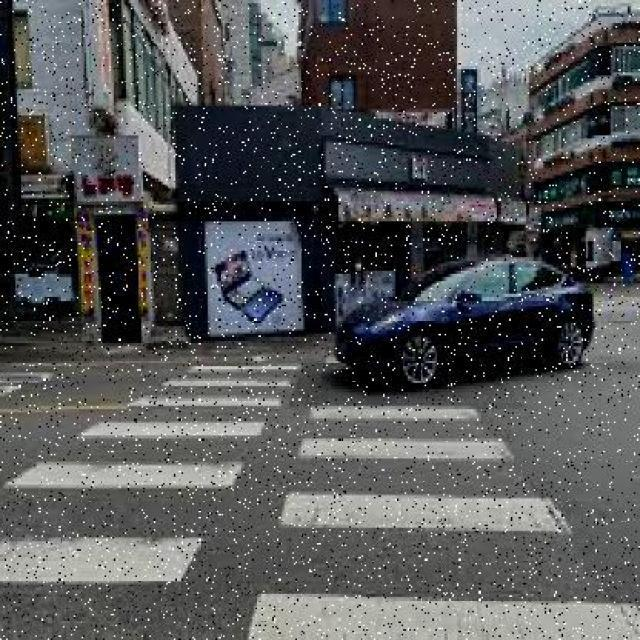crosswalk: (249, 370, 637, 640), (1, 362, 304, 587)
